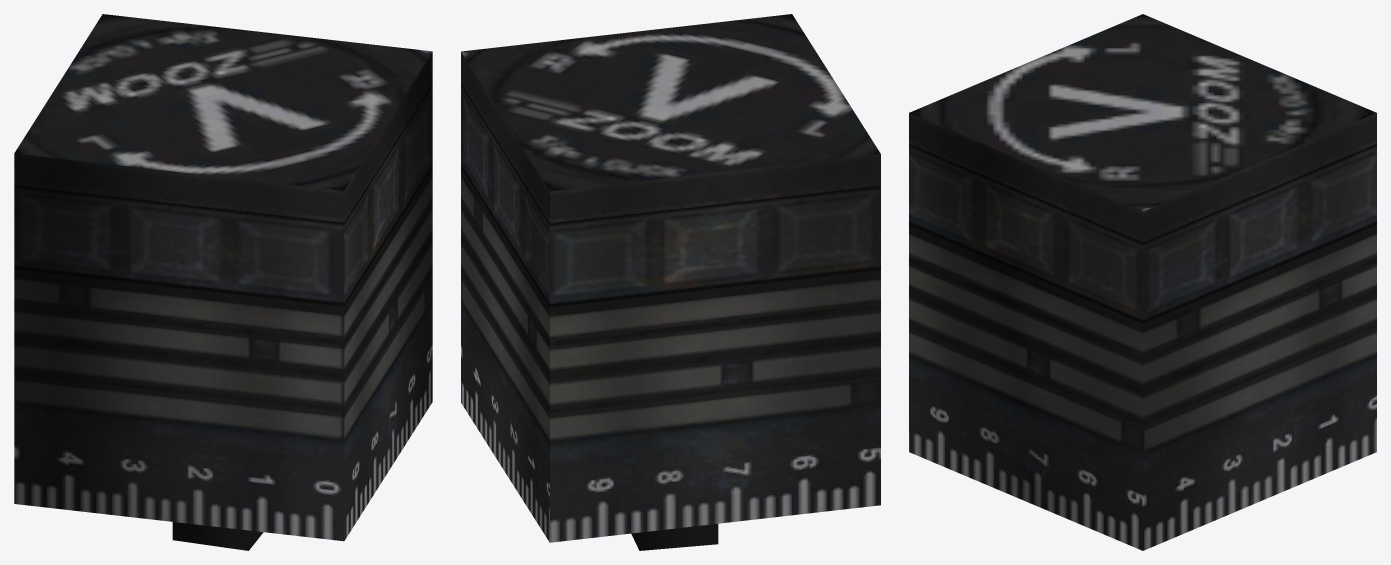
File: t6_attach_optic_vzoom_ballista_world_LOD1.obj
3 renders of one model, left to right at view 1: azimuth 30°, elevation 25°; view 2: azimuth 150°, elevation 25°; view 3: azimuth 270°, elevation 25°, orthographic. The views are drawn at different scales.
Visible parts, largest first — view 1: mtl_t6_attach_optic_vzoom_ballista; view 2: mtl_t6_attach_optic_vzoom_ballista; view 3: mtl_t6_attach_optic_vzoom_ballista.
Part boxes in pixels (x1,y1,x2,y2): mtl_t6_attach_optic_vzoom_ballista: (14, 14, 432, 550); mtl_t6_attach_optic_vzoom_ballista: (461, 14, 880, 550); mtl_t6_attach_optic_vzoom_ballista: (909, 14, 1376, 550).
Bounding box in the file's own units: 3.39 × 3.31 × 3.39.
